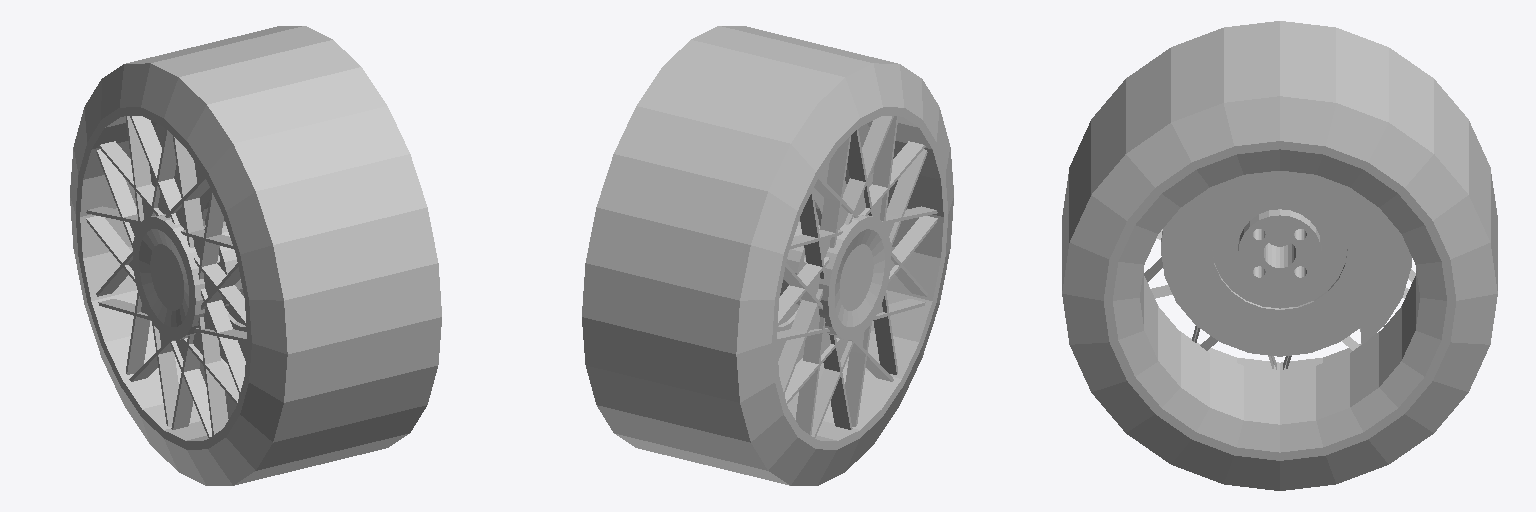
File: wheel3.obj
The picture shows the model from 3 angles: view 1: azimuth 30°, elevation 25°; view 2: azimuth 150°, elevation 25°; view 3: azimuth 270°, elevation 25°; orthographic projection.
Parts seen in each view (by area): view 1: Mesh4 Component_12_1 Component_109_1 Component_13_1 ske4DD9_1_1 , Mesh5 Component_15_1 Component_13_1 ske4DD9_1_1 Model, Mesh3 Component_10_1 Component_109_1 Component_13_1 ske4DD9_1_1 , Mesh6 Component_15_1 Component_13_1 ske4DD9_1_1 Model, Mesh2 Component_17_1 Component_18_1 Disco_de_freno1 ske4DD9_1_1 ; view 2: Mesh4 Component_12_1 Component_109_1 Component_13_1 ske4DD9_1_1 , Mesh5 Component_15_1 Component_13_1 ske4DD9_1_1 Model, Mesh3 Component_10_1 Component_109_1 Component_13_1 ske4DD9_1_1 , Mesh6 Component_15_1 Component_13_1 ske4DD9_1_1 Model, Mesh2 Component_17_1 Component_18_1 Disco_de_freno1 ske4DD9_1_1 ; view 3: Mesh4 Component_12_1 Component_109_1 Component_13_1 ske4DD9_1_1 , Mesh3 Component_10_1 Component_109_1 Component_13_1 ske4DD9_1_1 , Mesh2 Component_17_1 Component_18_1 Disco_de_freno1 ske4DD9_1_1 , Mesh1 Component_16_1 Component_18_1 Disco_de_freno1 ske4DD9_1_1 , Mesh5 Component_15_1 Component_13_1 ske4DD9_1_1 Model.
Part boxes in pixels (bbox=[...]): Mesh4 Component_12_1 Component_109_1 Component_13_1 ske4DD9_1_1 : bbox=[70, 26, 441, 485]; Mesh5 Component_15_1 Component_13_1 ske4DD9_1_1 Model: bbox=[86, 116, 246, 437]; Mesh3 Component_10_1 Component_109_1 Component_13_1 ske4DD9_1_1 : bbox=[76, 107, 251, 449]; Mesh6 Component_15_1 Component_13_1 ske4DD9_1_1 Model: bbox=[132, 214, 204, 339]; Mesh2 Component_17_1 Component_18_1 Disco_de_freno1 ske4DD9_1_1 : bbox=[194, 161, 246, 362]; Mesh4 Component_12_1 Component_109_1 Component_13_1 ske4DD9_1_1 : bbox=[582, 26, 953, 485]; Mesh5 Component_15_1 Component_13_1 ske4DD9_1_1 Model: bbox=[777, 116, 937, 437]; Mesh3 Component_10_1 Component_109_1 Component_13_1 ske4DD9_1_1 : bbox=[772, 107, 947, 449]; Mesh6 Component_15_1 Component_13_1 ske4DD9_1_1 Model: bbox=[819, 215, 890, 339]; Mesh2 Component_17_1 Component_18_1 Disco_de_freno1 ske4DD9_1_1 : bbox=[777, 161, 846, 362]; Mesh4 Component_12_1 Component_109_1 Component_13_1 ske4DD9_1_1 : bbox=[1062, 21, 1497, 490]; Mesh3 Component_10_1 Component_109_1 Component_13_1 ske4DD9_1_1 : bbox=[1104, 141, 1455, 460]; Mesh2 Component_17_1 Component_18_1 Disco_de_freno1 ske4DD9_1_1 : bbox=[1161, 171, 1360, 356]; Mesh1 Component_16_1 Component_18_1 Disco_de_freno1 ske4DD9_1_1 : bbox=[1361, 195, 1411, 343]; Mesh5 Component_15_1 Component_13_1 ske4DD9_1_1 Model: bbox=[1144, 229, 1415, 369].
Bounding box in the file's own units: 0.3412 × 0.6984 × 0.6984.